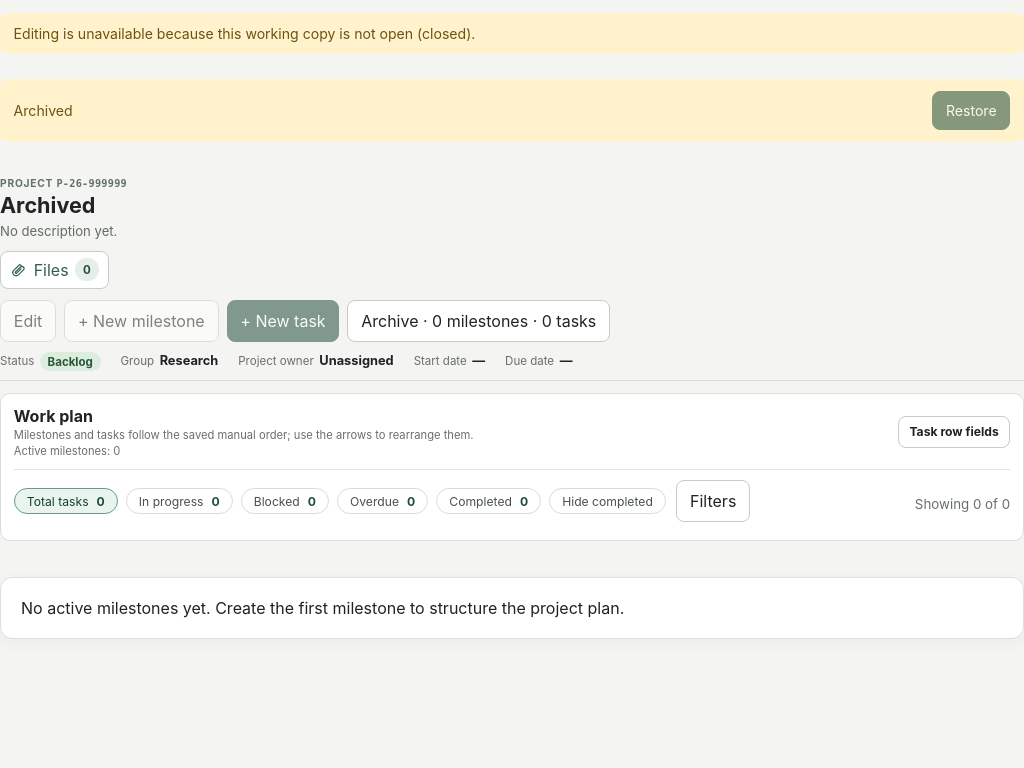
ProjectPlanWorkspace › shows the files entry point for archived Projects in a read-only draft
The width and height of the screenshot is (1024, 768).
Click the button "Files 0" at [55, 270], box [0, 250, 109, 289]
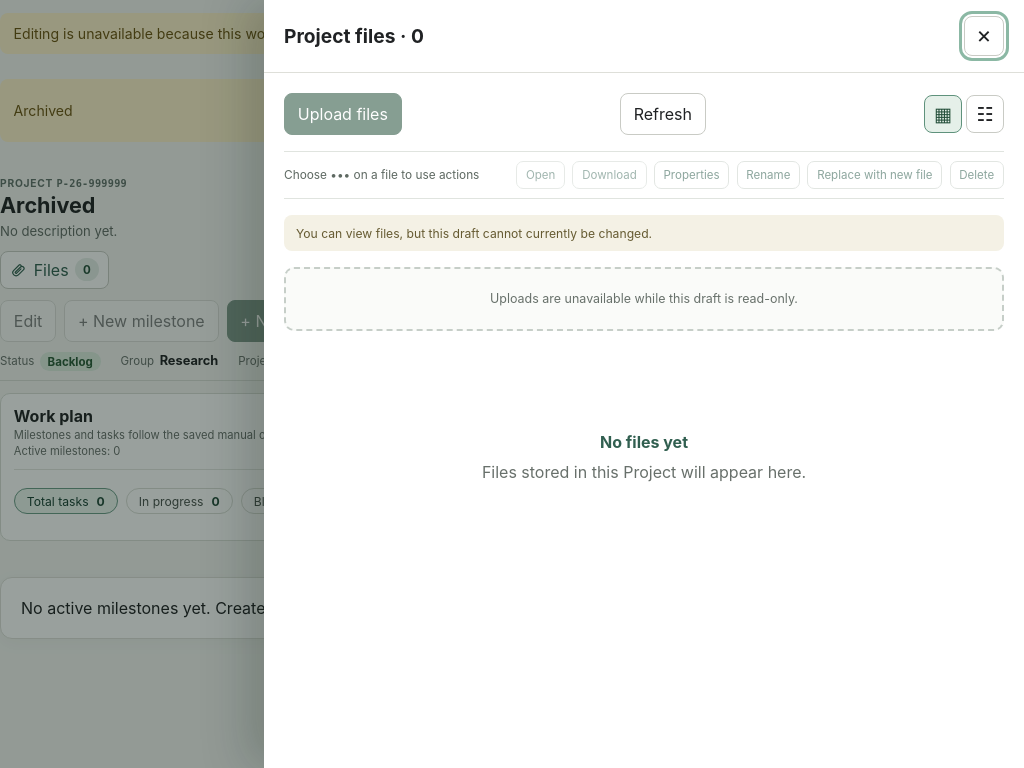
Result: the button "Upload files" is disabled at [284, 93, 402, 135]
